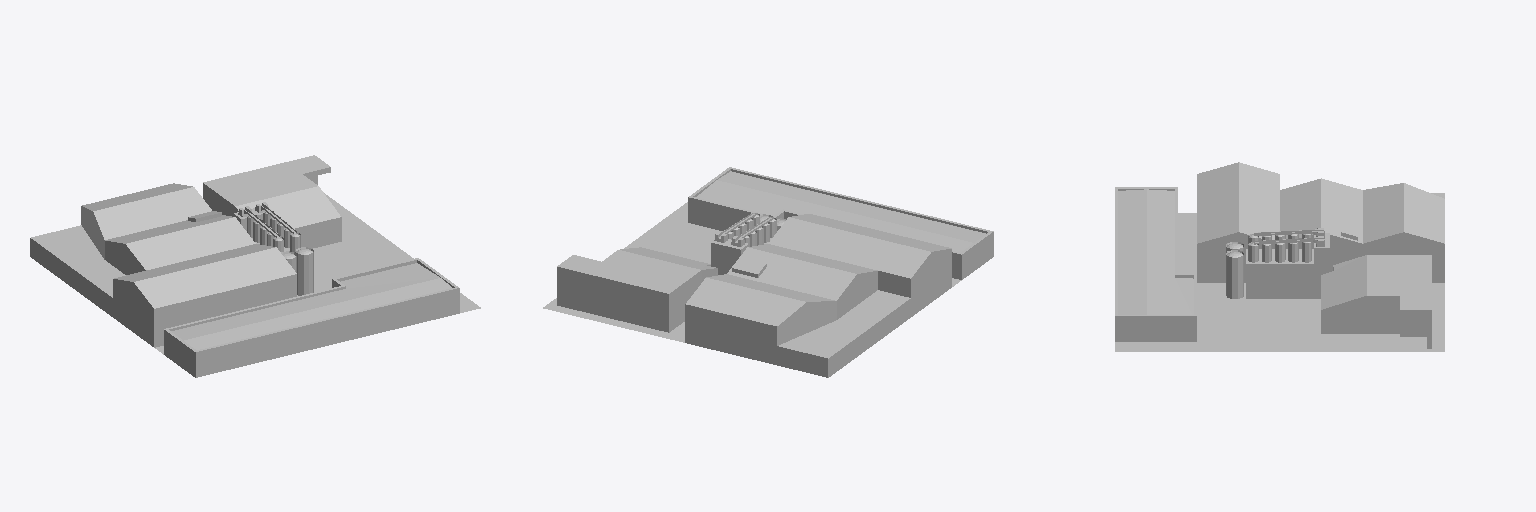
The model's file is Recyclefacility.obj.
3 views of the same model, side by side, from view 1: azimuth 30°, elevation 25°; view 2: azimuth 150°, elevation 25°; view 3: azimuth 270°, elevation 25° (orthographic).
Visible parts, largest first — view 1: Cube.001_Cube.002; view 2: Cube.001_Cube.002; view 3: Cube.001_Cube.002.
Boxes of the visible parts, x1,y1,x2,y2 form: Cube.001_Cube.002: [30, 155, 480, 377]; Cube.001_Cube.002: [543, 167, 993, 377]; Cube.001_Cube.002: [1115, 162, 1444, 351].
Size of the model in its own units: 385 by 78.09 by 385.